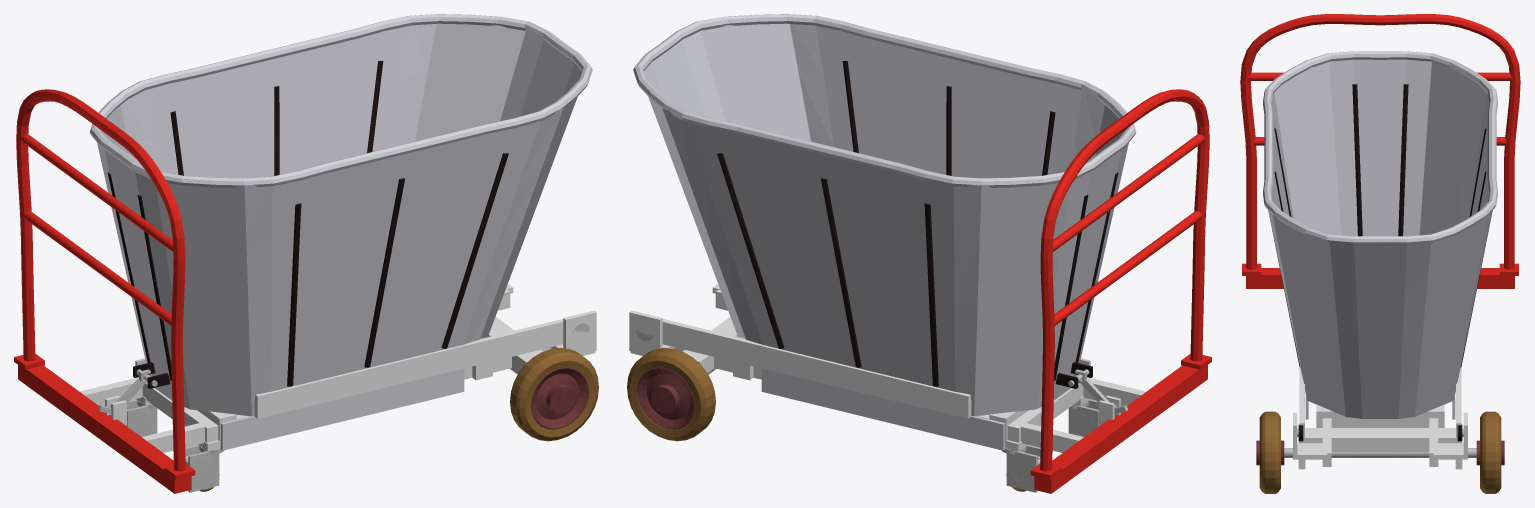
Rendered from Urban_Environment_Tilt_Truck2__0626.glb.
3 views of the same model, side by side, from view 1: azimuth 30°, elevation 25°; view 2: azimuth 150°, elevation 25°; view 3: azimuth 270°, elevation 25° (orthographic). The views are drawn at different scales.
Visible parts, largest first — view 1: hopper::hopper_form__chamfered_octagon__tub_shell, hopper::hopper_form__chamfered_octagon__rim_lip, push_handle::push_handle__rear_loop__hoop_tube, hopper::trunnion_channel_1, hopper::hopper_form__chamfered_octagon__underbody_apron_1, chassis::rear_outrigger_beam, main_wheel_1::main_wheel_1_tire, main_wheel_1::main_wheel_1_rim, push_handle::push_handle__rear_loop__rung_1, push_handle::push_handle__rear_loop__rung_0, hopper::hopper_form__chamfered_octagon__side_rib_2_1, chassis::chassis__molded_underbody__subframe_rail_1 (+9 smaller); view 2: hopper::hopper_form__chamfered_octagon__tub_shell, hopper::hopper_form__chamfered_octagon__rim_lip, push_handle::push_handle__rear_loop__hoop_tube, hopper::trunnion_channel_0, hopper::hopper_form__chamfered_octagon__underbody_apron_0, chassis::rear_outrigger_beam, main_wheel_0::main_wheel_0_tire, main_wheel_0::main_wheel_0_rim, push_handle::push_handle__rear_loop__rung_1, push_handle::push_handle__rear_loop__rung_0, hopper::hopper_form__chamfered_octagon__side_rib_2_0, chassis::chassis__molded_underbody__subframe_rail_0 (+9 smaller); view 3: hopper::hopper_form__chamfered_octagon__tub_shell, push_handle::push_handle__rear_loop__hoop_tube, hopper::hopper_form__chamfered_octagon__rim_lip, chassis::chassis__molded_underbody__axle_cradle, main_wheel_0::main_wheel_0_tire, main_wheel_1::main_wheel_1_tire, chassis::chassis__molded_underbody__deck_bearer_3, chassis::rear_outrigger_beam, hopper::hopper_form__chamfered_octagon__rear_rib_0, hopper::hopper_form__chamfered_octagon__rear_rib_1, chassis::main_axle, push_handle::push_handle__rear_loop__rung_1 (+6 smaller).
Boxes of the visible parts, box(x1,y1,x2,y2) form: hopper::hopper_form__chamfered_octagon__tub_shell: box(97, 23, 581, 416); hopper::hopper_form__chamfered_octagon__rim_lip: box(89, 14, 592, 187); push_handle::push_handle__rear_loop__hoop_tube: box(16, 89, 185, 471); hopper::trunnion_channel_1: box(254, 319, 563, 418); hopper::hopper_form__chamfered_octagon__underbody_apron_1: box(220, 368, 464, 450); chassis::rear_outrigger_beam: box(18, 365, 191, 493); main_wheel_1::main_wheel_1_tire: box(510, 347, 598, 441); main_wheel_1::main_wheel_1_rim: box(531, 367, 588, 429); push_handle::push_handle__rear_loop__rung_1: box(21, 134, 173, 251); push_handle::push_handle__rear_loop__rung_0: box(20, 211, 174, 326); hopper::hopper_form__chamfered_octagon__side_rib_2_1: box(441, 153, 508, 348); chassis::chassis__molded_underbody__subframe_rail_1: box(142, 347, 551, 452); hopper::hopper_form__chamfered_octagon__tub_shell: box(644, 23, 1128, 416); hopper::hopper_form__chamfered_octagon__rim_lip: box(633, 14, 1136, 187); push_handle::push_handle__rear_loop__hoop_tube: box(1040, 89, 1209, 471); hopper::trunnion_channel_0: box(662, 319, 971, 418); hopper::hopper_form__chamfered_octagon__underbody_apron_0: box(761, 368, 1005, 450); chassis::rear_outrigger_beam: box(1034, 365, 1207, 493); main_wheel_0::main_wheel_0_tire: box(627, 347, 715, 441); main_wheel_0::main_wheel_0_rim: box(637, 367, 694, 429); push_handle::push_handle__rear_loop__rung_1: box(1052, 134, 1204, 251); push_handle::push_handle__rear_loop__rung_0: box(1051, 211, 1205, 326); hopper::hopper_form__chamfered_octagon__side_rib_2_0: box(717, 153, 784, 348); chassis::chassis__molded_underbody__subframe_rail_0: box(674, 347, 1083, 452); hopper::hopper_form__chamfered_octagon__tub_shell: box(1268, 59, 1492, 418); push_handle::push_handle__rear_loop__hoop_tube: box(1240, 14, 1520, 269); hopper::hopper_form__chamfered_octagon__rim_lip: box(1263, 51, 1497, 244); chassis::chassis__molded_underbody__axle_cradle: box(1305, 428, 1457, 451); main_wheel_0::main_wheel_0_tire: box(1480, 411, 1501, 493); main_wheel_1::main_wheel_1_tire: box(1259, 411, 1280, 493); chassis::chassis__molded_underbody__deck_bearer_3: box(1316, 404, 1444, 427); chassis::rear_outrigger_beam: box(1246, 268, 1514, 288); hopper::hopper_form__chamfered_octagon__rear_rib_0: box(1352, 84, 1362, 236); hopper::hopper_form__chamfered_octagon__rear_rib_1: box(1398, 84, 1408, 236); chassis::main_axle: box(1284, 448, 1476, 457); push_handle::push_handle__rear_loop__rung_1: box(1248, 72, 1512, 80).
Size of the model in its own units: 1.68 by 1.24 by 1.01.
Materials: 7 (5 with a texture image).
